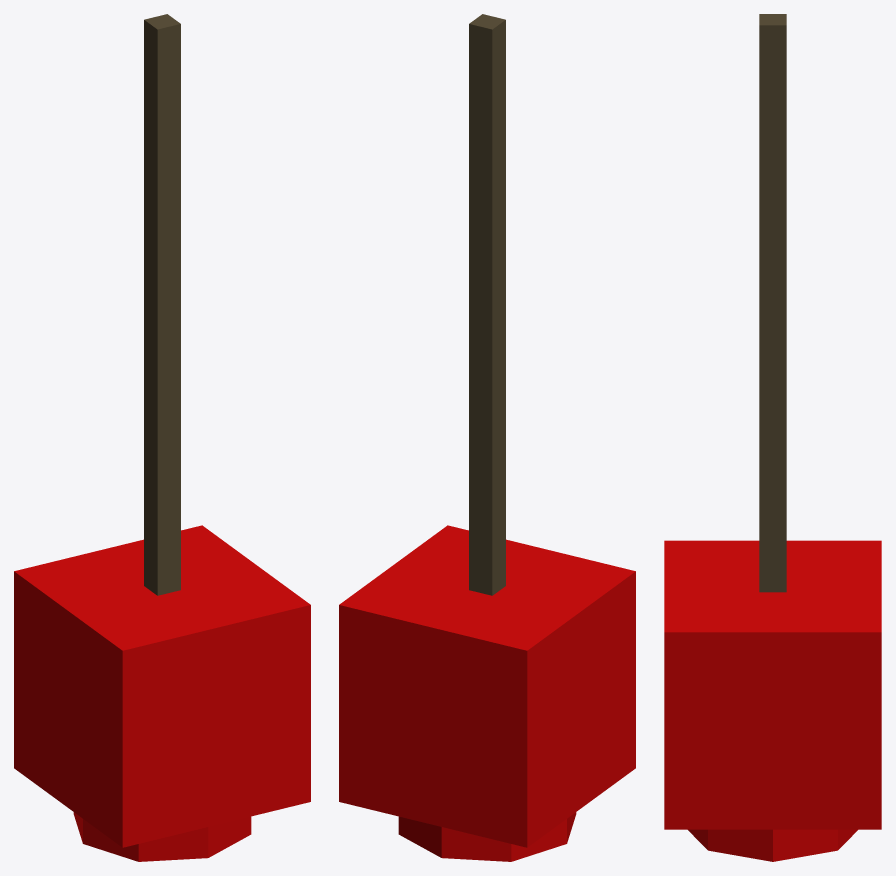
File: FocoRojo.obj
3 views of the same model, side by side, from view 1: azimuth 30°, elevation 25°; view 2: azimuth 150°, elevation 25°; view 3: azimuth 270°, elevation 25° (orthographic).
Parts seen in each view (by area): view 1: Cube_Cube.001; view 2: Cube_Cube.001; view 3: Cube_Cube.001.
Part boxes in pixels (bbox=[...]): Cube_Cube.001: bbox=[14, 14, 310, 861]; Cube_Cube.001: bbox=[339, 14, 635, 861]; Cube_Cube.001: bbox=[664, 14, 881, 861].
Size of the model in its own units: 1 by 4.07 by 1.
